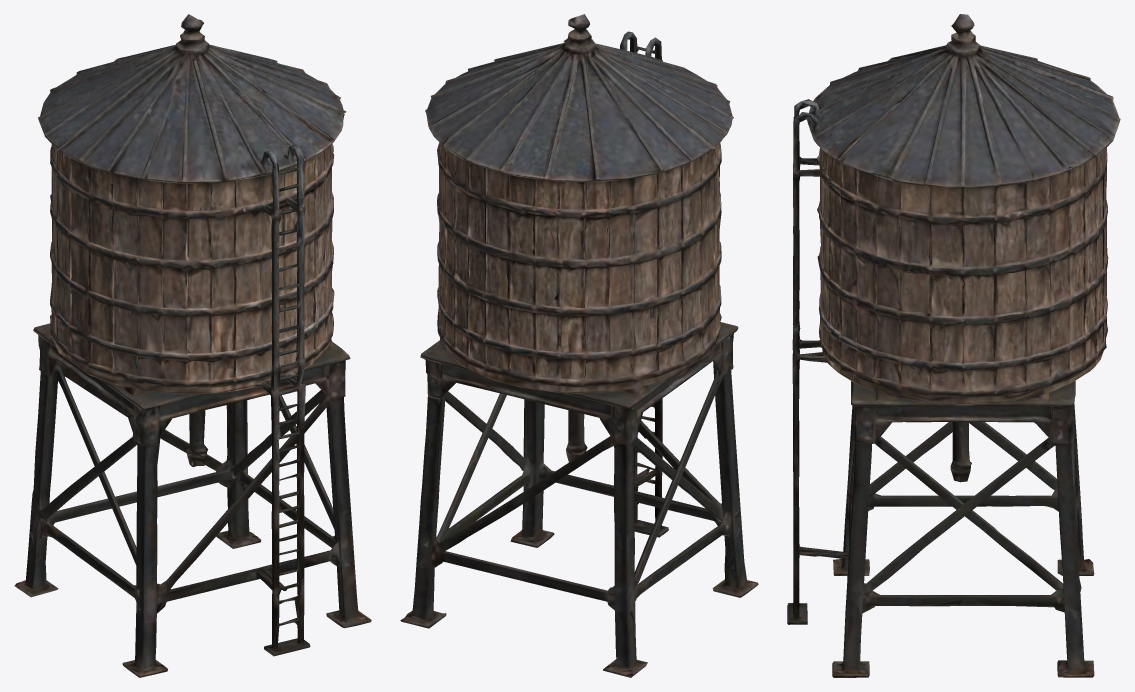
The model's file is water-tower.glb.
The picture shows the model from 3 angles, left to right: view 1: azimuth 30°, elevation 25°; view 2: azimuth 150°, elevation 25°; view 3: azimuth 270°, elevation 25°; orthographic projection. The views are drawn at different scales.
Parts seen in each view (by area): view 1: SM_water_tower; view 2: SM_water_tower; view 3: SM_water_tower.
Boxes of the visible parts, x1,y1,x2,y2 form: SM_water_tower: (14,14,371,677); SM_water_tower: (400,14,758,677); SM_water_tower: (787,14,1120,677).
Bounding box in the file's own units: 0.4678 × 0.9767 × 0.488.
Materials: 1 (1 with a texture image).
